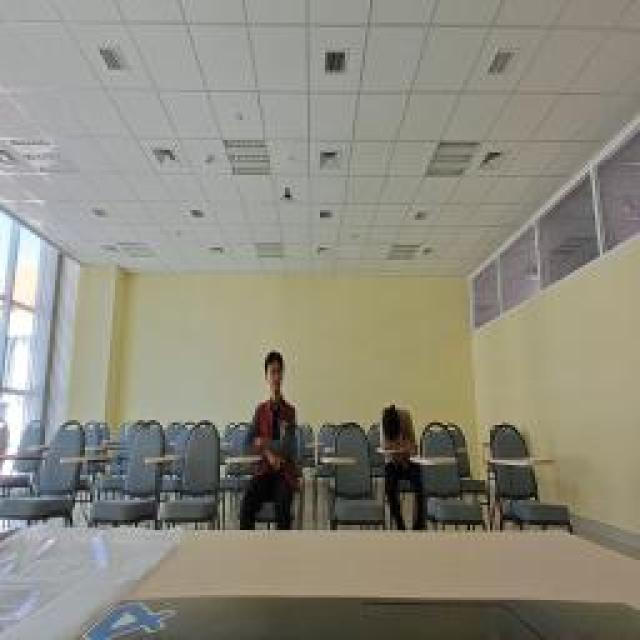sleep: (375, 402, 417, 450)
study: (243, 350, 295, 462)
